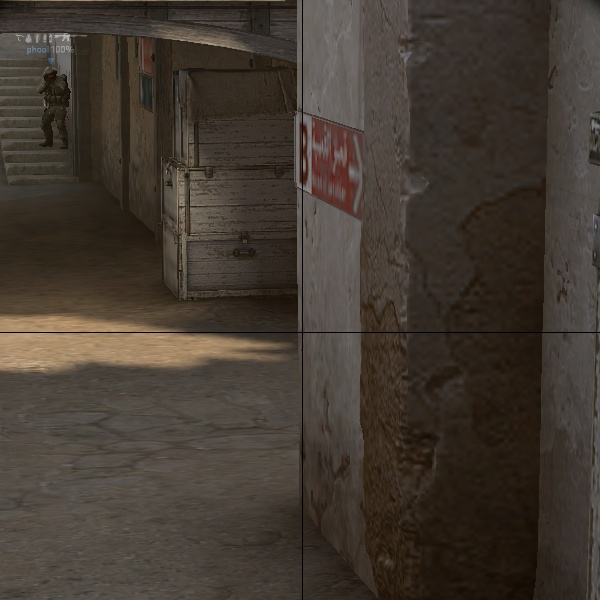ct_body: (38, 67, 71, 148)
ct_head: (43, 67, 58, 81)
